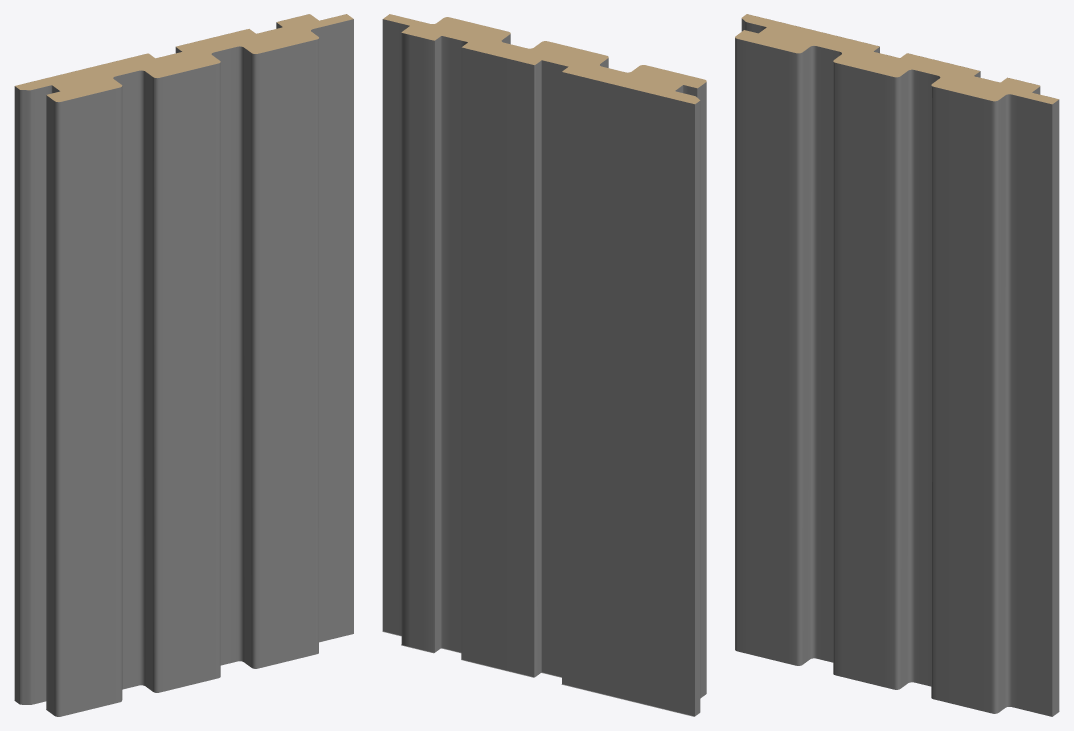
File: atlas.glb
The picture shows the model from 3 angles, left to right: view 1: azimuth 30°, elevation 25°; view 2: azimuth 150°, elevation 25°; view 3: azimuth 330°, elevation 25°; orthographic projection.
Parts seen in each view (by area): view 1: root; view 2: root; view 3: root.
Boxes of the visible parts, <box> form: root: <box>14,14,353,716</box>; root: <box>382,14,706,716</box>; root: <box>735,14,1059,716</box>.
Size of the model in its own units: 0.12 by 0.2183 by 0.0184.
